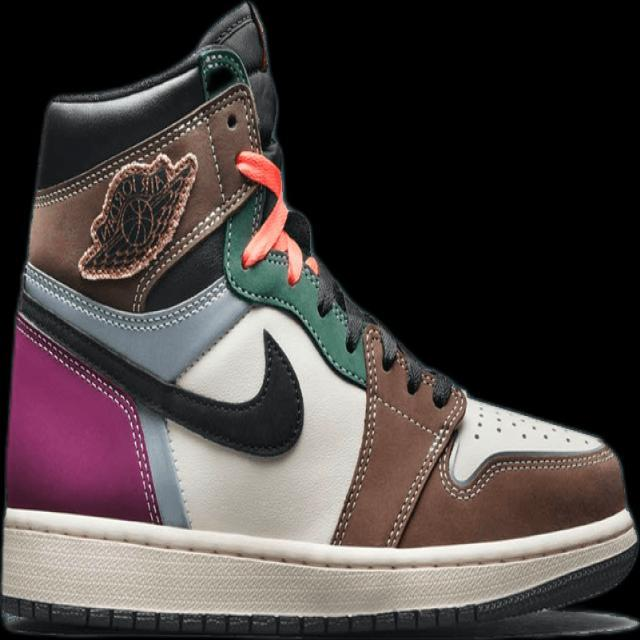J1_InsoleChar: (0, 0, 639, 639)
J1_ShoeLogo: (76, 149, 199, 282), (234, 148, 318, 286)
J1_StitchPattern: (0, 506, 638, 634), (328, 323, 614, 549), (33, 80, 266, 313), (13, 310, 163, 525), (328, 323, 465, 548), (19, 259, 229, 335), (382, 392, 466, 548), (328, 323, 385, 547), (439, 444, 618, 502), (467, 398, 601, 450), (159, 414, 195, 529)
